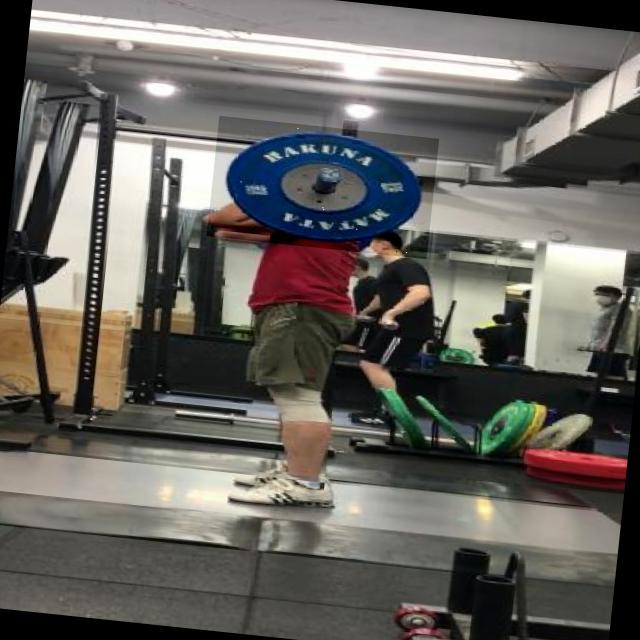barbell: (207, 116, 440, 260)
